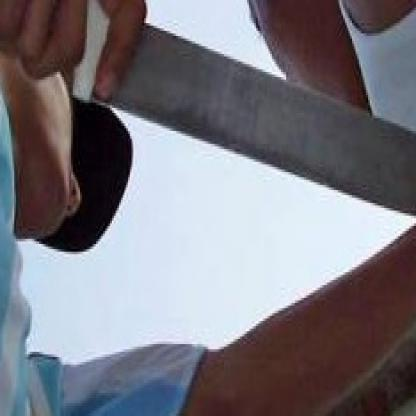knife: (0, 0, 414, 231)
